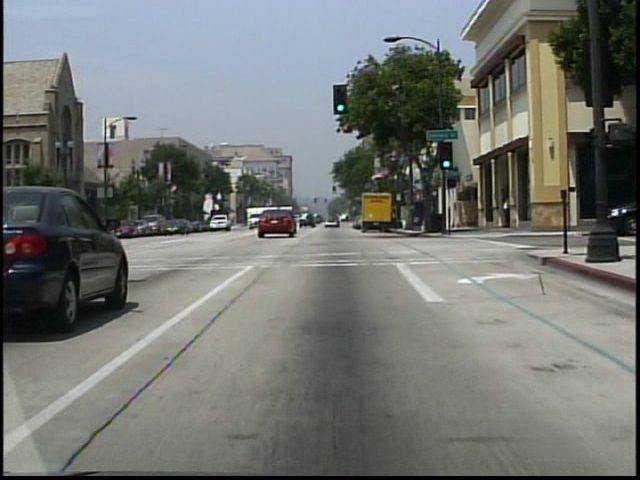person: (501, 195, 510, 229)
